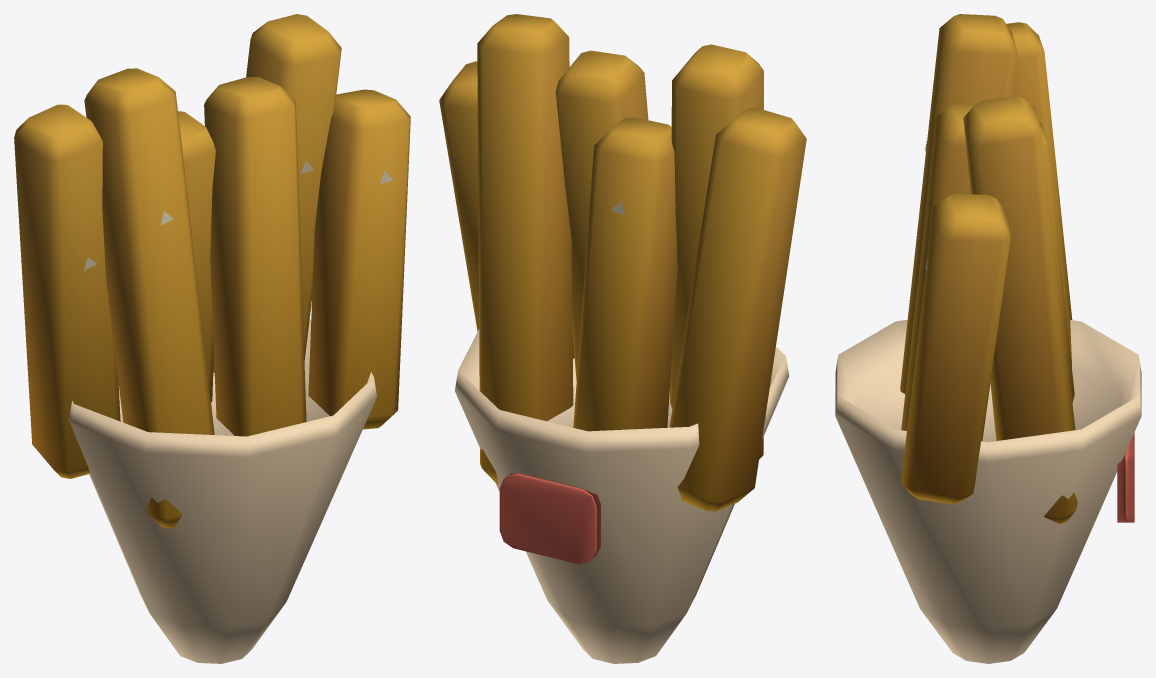
The model's file is fry_hand.glb.
3 renders of one model, left to right at view 1: azimuth 30°, elevation 25°; view 2: azimuth 150°, elevation 25°; view 3: azimuth 270°, elevation 25°, orthographic. The views are drawn at different scales.
Visible parts, largest first — view 1: Sticks, Carrier; view 2: Sticks, Carrier; view 3: Sticks, Carrier.
Boxes of the visible parts, box(x1,y1,x2,y2) form: Sticks: box(14, 14, 410, 528); Carrier: box(69, 319, 376, 663); Sticks: box(439, 14, 806, 511); Carrier: box(455, 329, 789, 663); Sticks: box(900, 14, 1077, 524); Carrier: box(835, 320, 1141, 663).
Bounding box in the file's own units: 0.3761 × 0.5999 × 0.2853.
